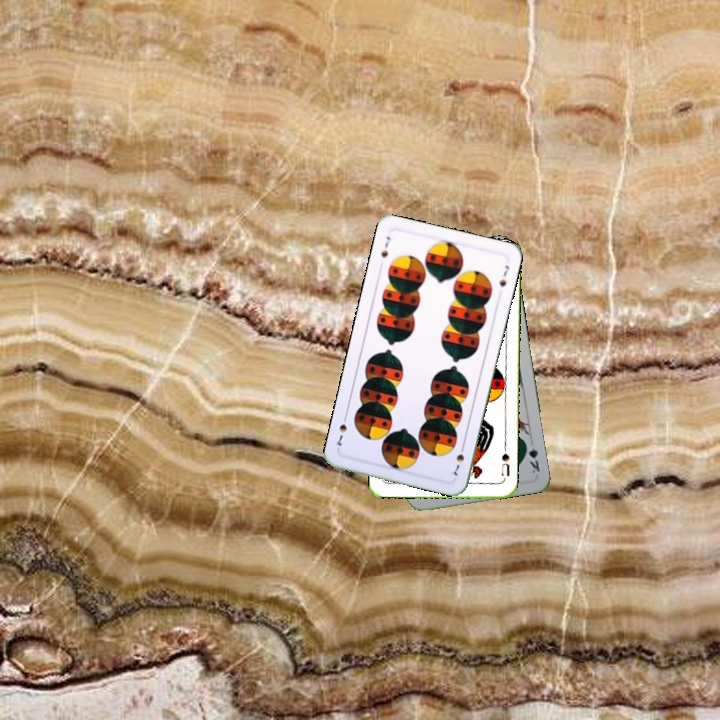GK: (521, 437, 542, 476)
S7: (447, 440, 467, 480), (377, 232, 394, 260)
SU: (497, 442, 512, 478)
